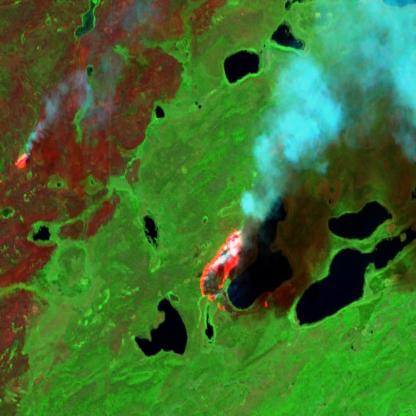fire: (196, 226, 245, 314), (8, 145, 32, 178)
